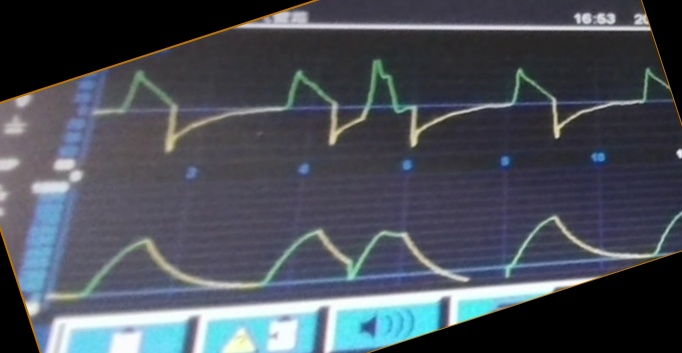Double_Triggering Flow: (144, 56, 659, 150)
Double_Triggering Volume: (78, 208, 654, 289)
